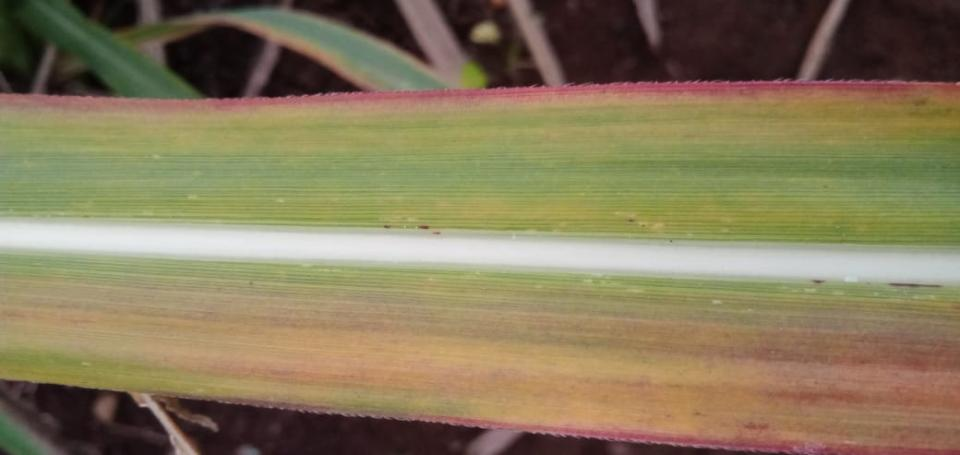Yellow: (0, 274, 959, 454), (0, 83, 959, 130)
